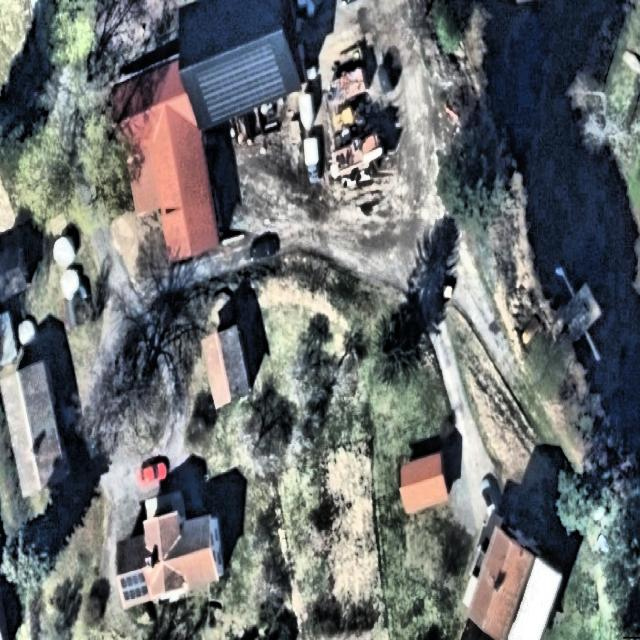roof_pv: (197, 39, 290, 124), (120, 572, 150, 604)
